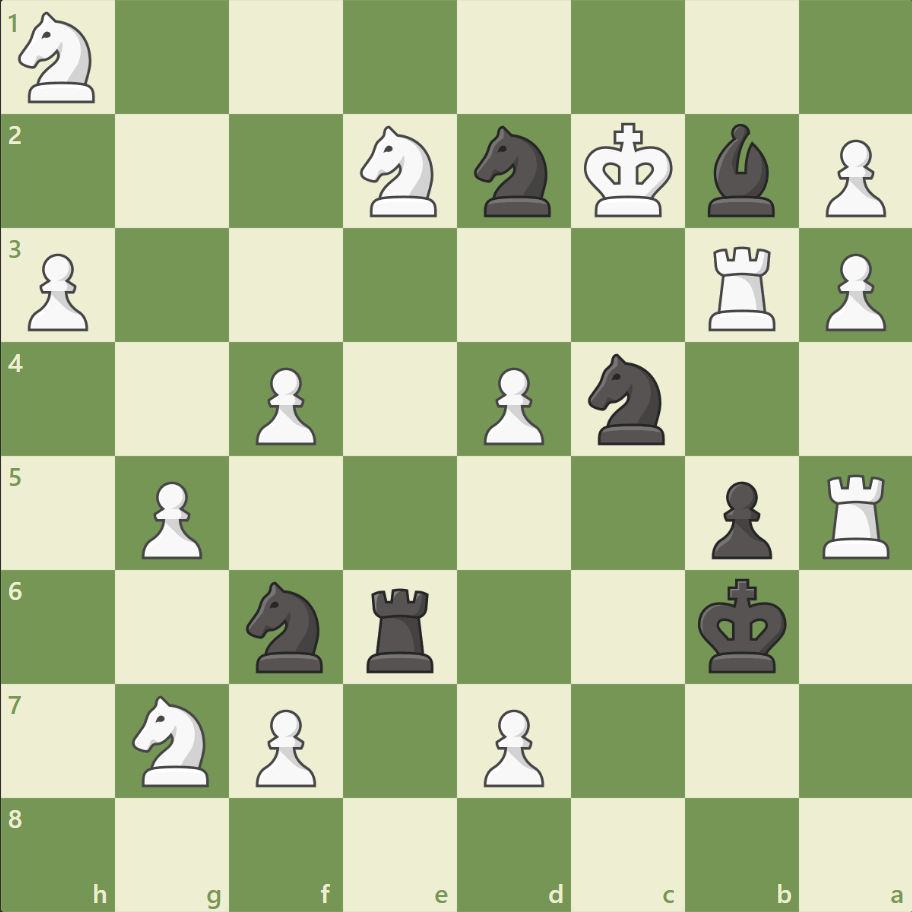K: (579, 117, 679, 225)
N: (124, 688, 222, 791), (351, 121, 449, 223), (11, 7, 108, 110)
P: (474, 700, 549, 791), (247, 700, 322, 791), (133, 473, 208, 564), (474, 359, 549, 450), (247, 359, 322, 450), (20, 246, 95, 337), (815, 246, 889, 337), (815, 132, 889, 223)
R: (814, 466, 897, 563), (700, 239, 783, 336)
b: (698, 120, 782, 222)
k: (692, 571, 792, 679)
n: (238, 575, 335, 677), (579, 348, 676, 450), (465, 121, 562, 223)
p: (701, 473, 776, 564)
r: (360, 579, 442, 676)
